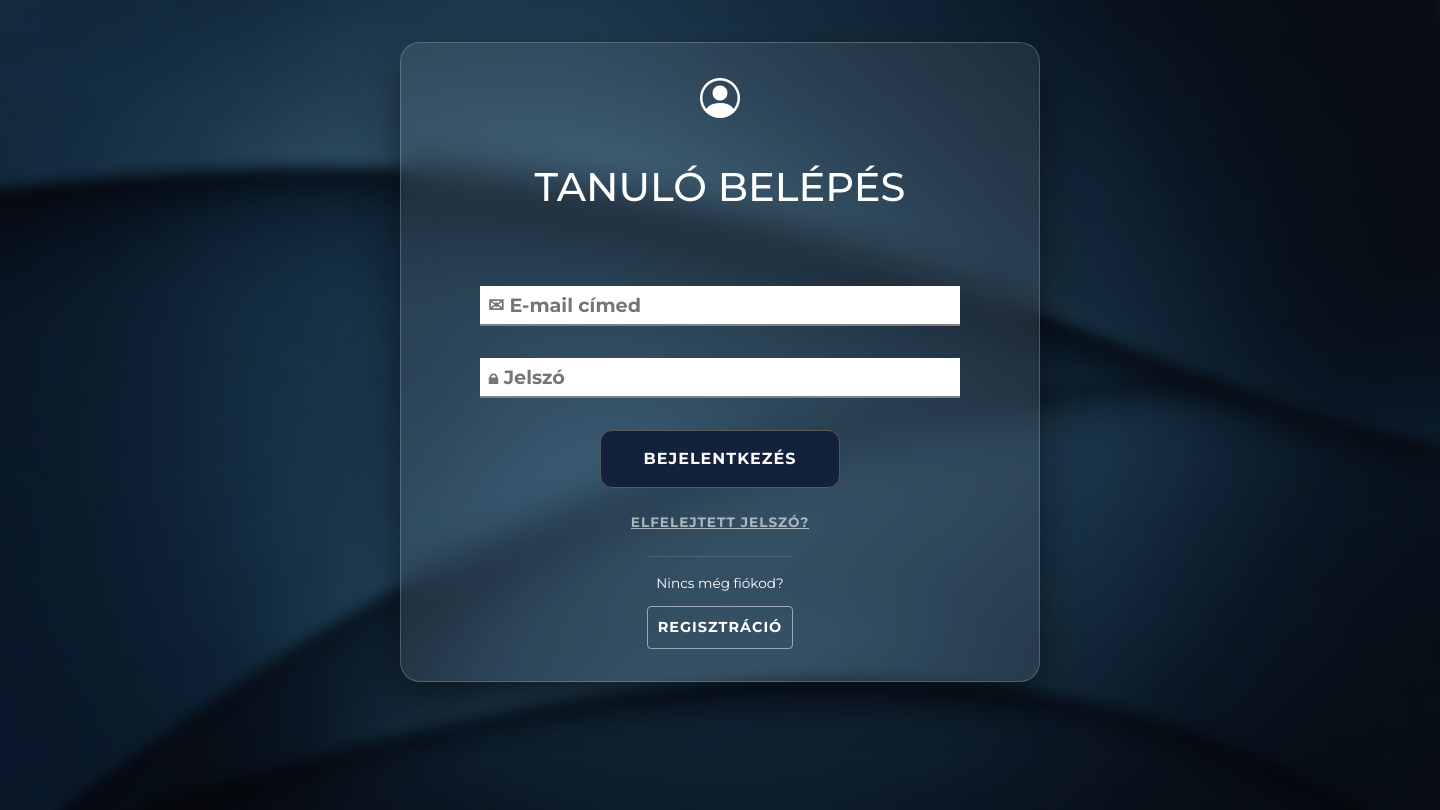
Test: StudentSiteComp – Tanuló bejelentkezés › hibát jelenít meg ha az email nem létezik a reset során
The image size is (1440, 810).
(page scrolled)
Step 1. Click the button "Elfelejtett jelszó?" → (720, 522), box [600,496,840,548]
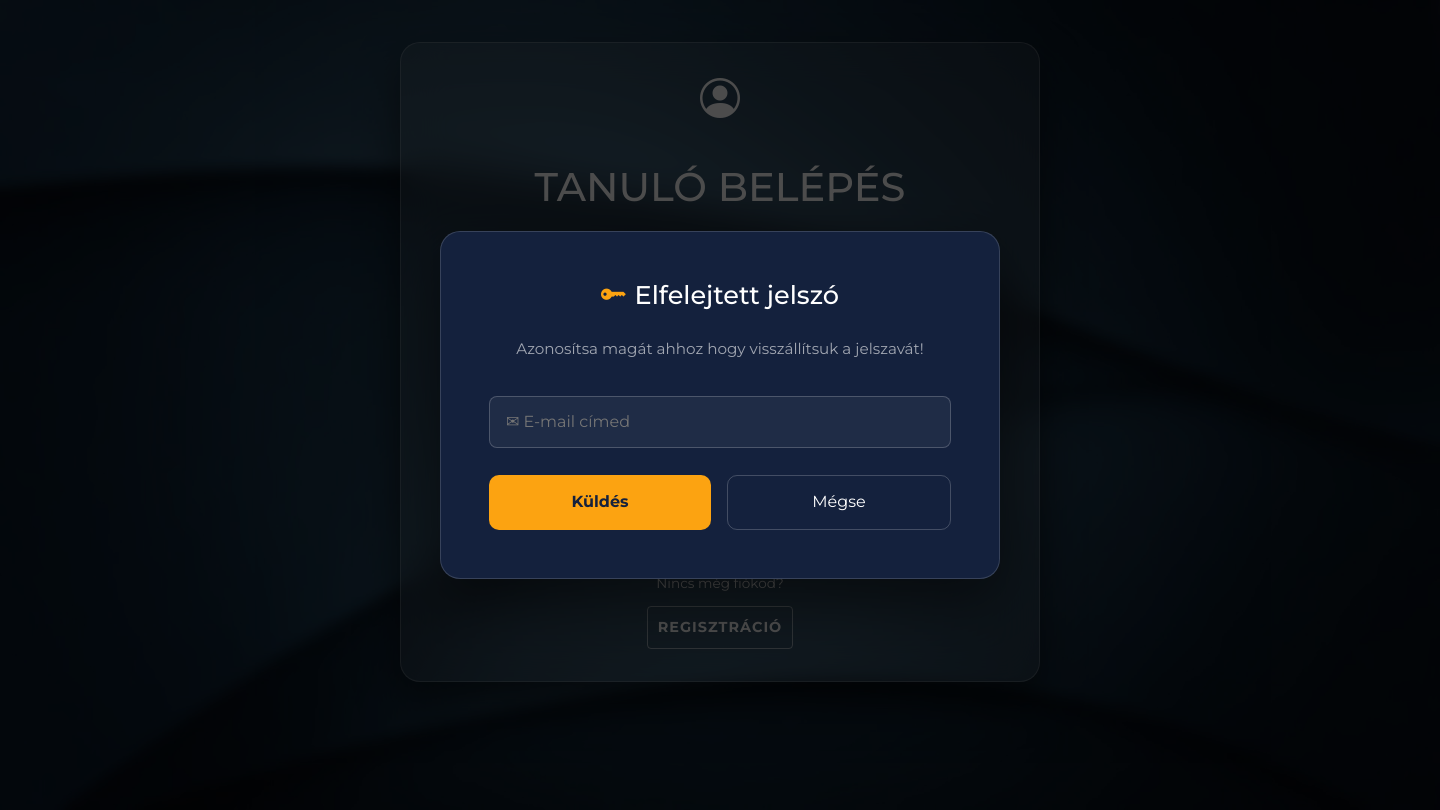
Result: the text "Azonosítsa magát ahhoz hogy visszállítsuk a jelszavát!" is shown at [489,338,951,361]
Step 2. Type "nemletezik@test.hu" into the field with placeholder "✉ E-mail címed" → (720, 422), box [489,396,951,448]
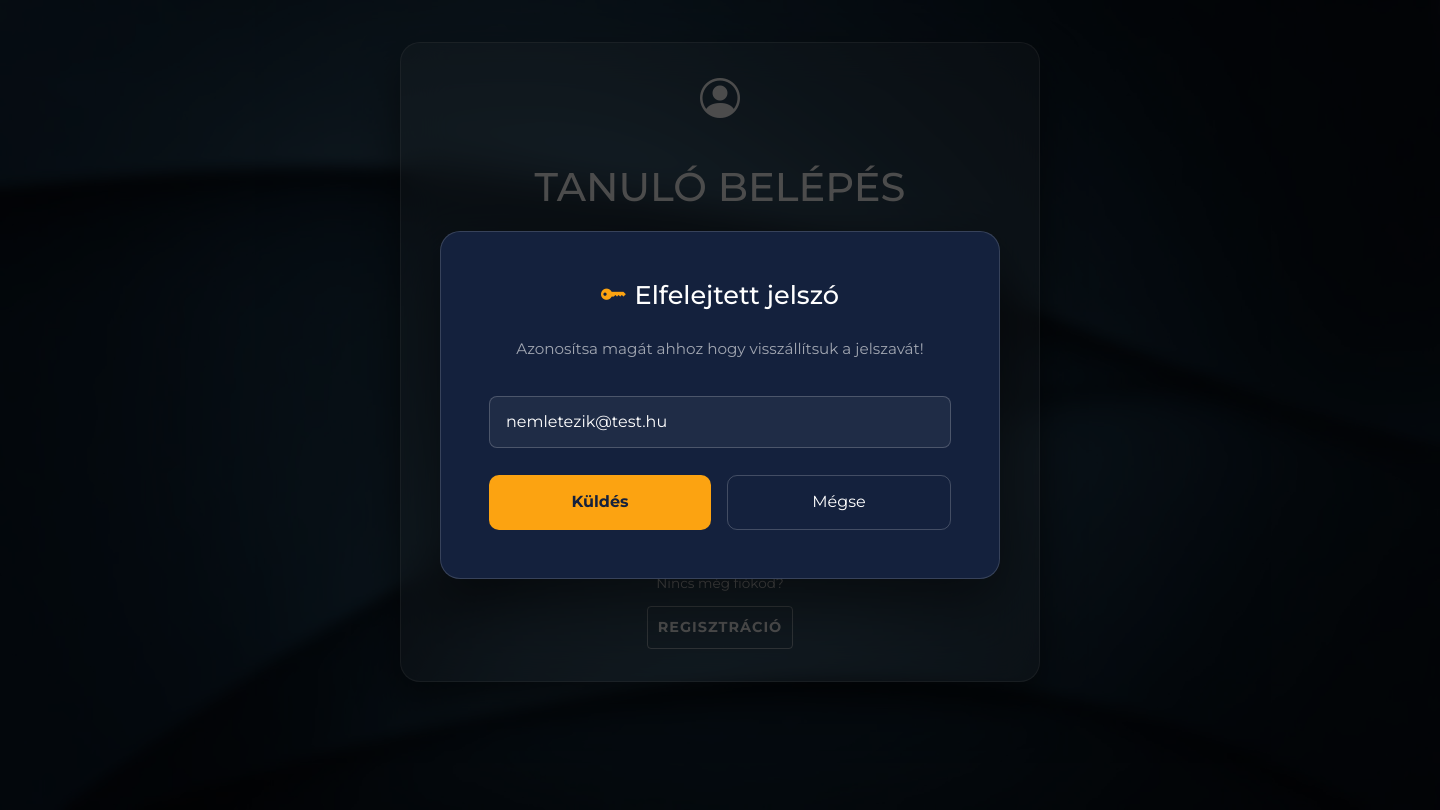
Step 3. Click the button "Küldés" → (600, 502), box [489,475,711,530]
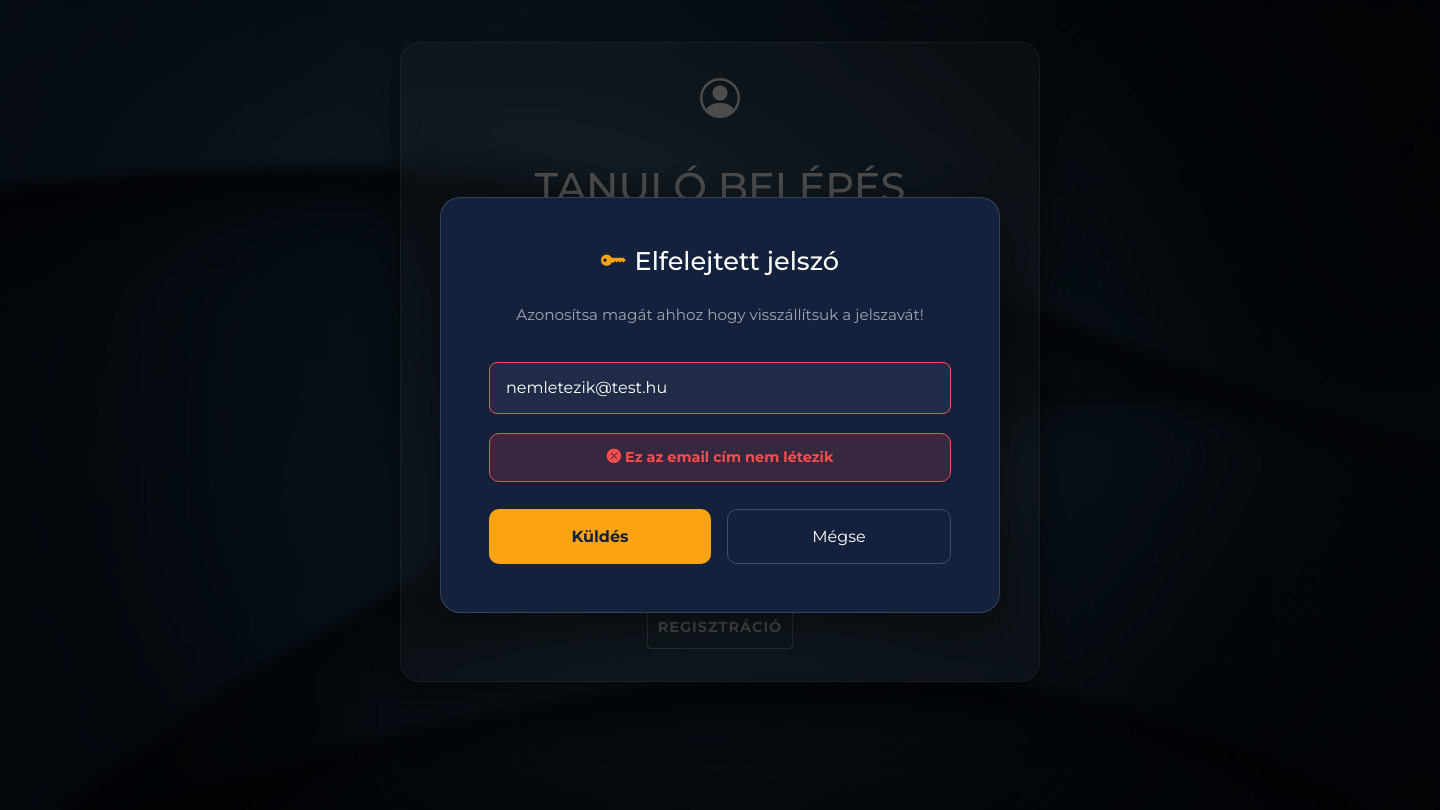
Result: the text "Ez az email cím nem létezik" is shown at [489,433,951,482]
